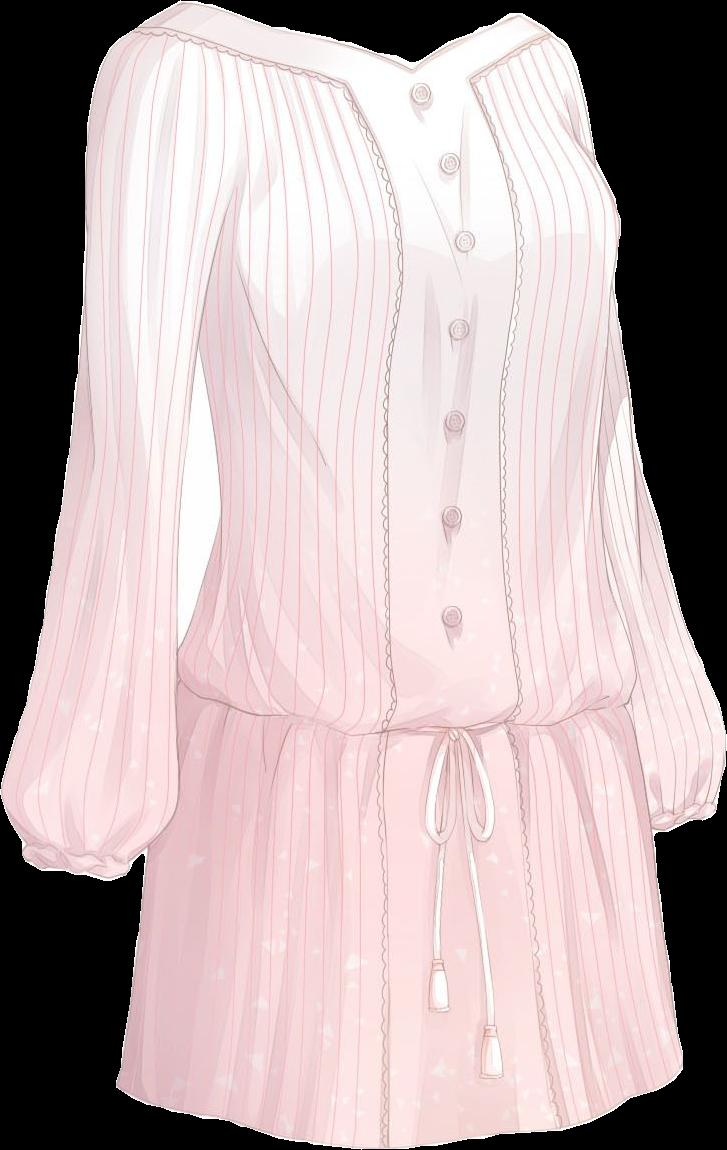Bodice: (174, 12, 643, 736)
Hemline: (110, 1061, 687, 1149)
Neckline: (227, 10, 514, 74)
Skirt: (117, 636, 682, 1148)
Sleeve: (1, 2, 240, 879)
Sleeveline: (207, 12, 252, 245)
Waistline: (173, 681, 633, 747)
